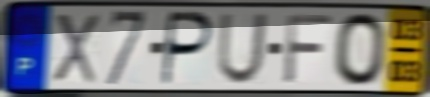7: (104, 8, 150, 88)
F: (281, 12, 335, 87)
O: (333, 10, 389, 89)
P: (159, 9, 216, 88)
U: (215, 12, 270, 87)
X: (51, 11, 100, 86)
